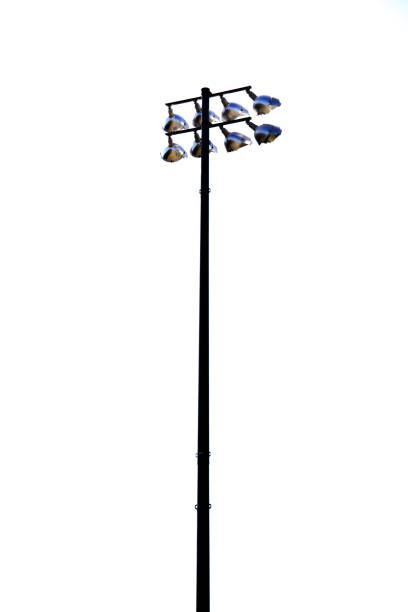light_pole: (196, 162, 212, 608)
